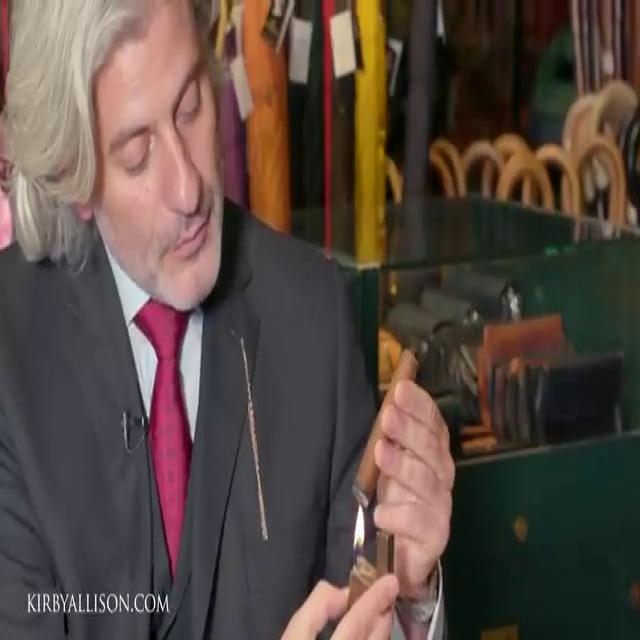Smooking: (346, 323, 432, 521)
